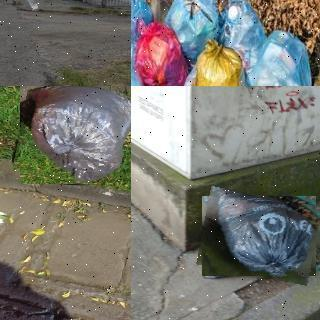Garbage: (16, 86, 131, 190), (199, 191, 320, 281), (237, 23, 314, 86), (131, 16, 190, 86), (217, 0, 272, 72), (176, 41, 261, 86), (158, 0, 222, 59), (131, 0, 153, 86), (25, 0, 39, 10)
